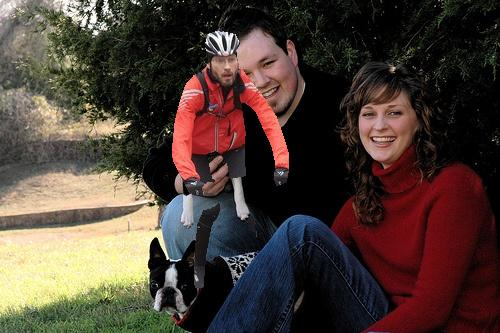tampered: (173, 31, 289, 288)
